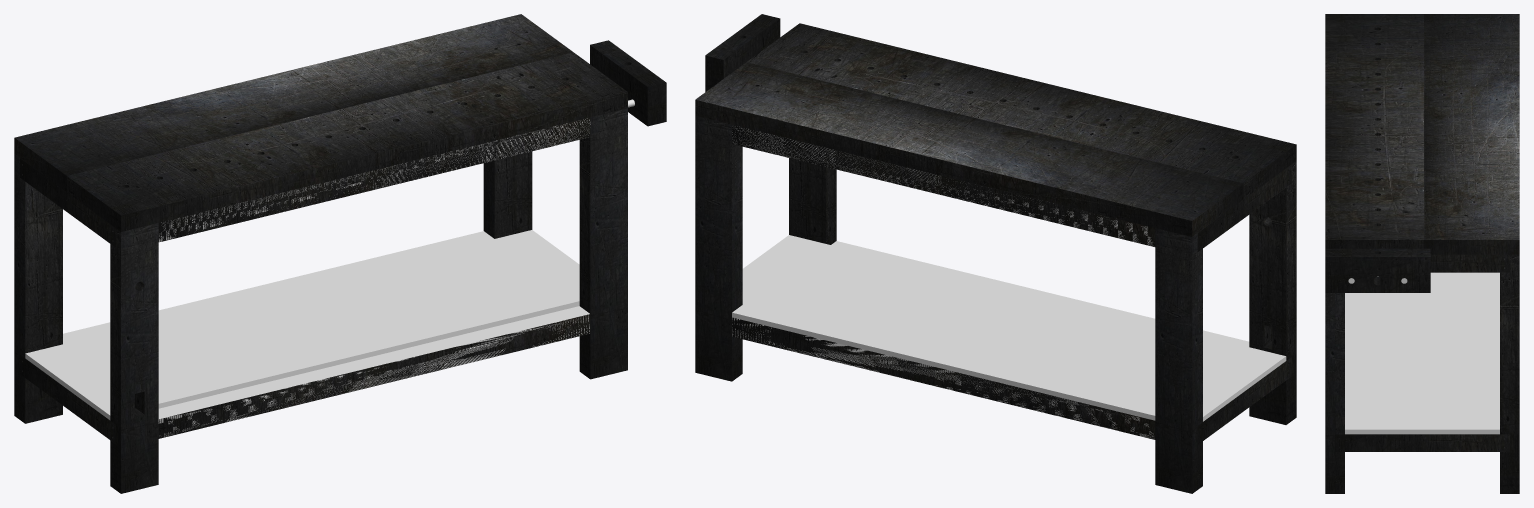
3 views of the same model, side by side, from view 1: azimuth 30°, elevation 25°; view 2: azimuth 150°, elevation 25°; view 3: azimuth 270°, elevation 25° (orthographic). The views are drawn at different scales.
Visible parts, largest first — view 1: instance_24, instance_25, instance_23, instance_15, instance_5, instance_6, instance_3, instance_10, instance_10.001, instance_7, instance_4, instance_1 (+1 smaller); view 2: instance_24, instance_23, instance_25, instance_6, instance_7, instance_15, instance_9, instance_8, instance_5, instance_4, instance_10.001, instance_0 (+1 smaller); view 3: instance_24, instance_25, instance_23, instance_4, instance_7, instance_5, instance_2, instance_20.001.
Boxes of the visible parts, x1,y1,x2,y2 form: instance_24: (25, 230, 579, 420); instance_25: (67, 52, 627, 231); instance_23: (14, 14, 572, 191); instance_15: (110, 223, 158, 493); instance_5: (579, 108, 627, 379); instance_6: (14, 154, 62, 423); instance_3: (158, 117, 590, 242); instance_10: (158, 314, 590, 438); instance_10.001: (158, 306, 589, 418); instance_7: (483, 151, 532, 238); instance_4: (590, 40, 666, 126); instance_1: (20, 355, 115, 443); instance_24: (732, 235, 1286, 421); instance_23: (695, 62, 1243, 236); instance_25: (747, 23, 1296, 198); instance_6: (1155, 228, 1202, 493); instance_7: (695, 116, 742, 381); instance_15: (1249, 161, 1296, 424); instance_9: (732, 317, 1155, 439); instance_8: (732, 125, 1155, 246); instance_5: (789, 158, 836, 244); instance_4: (705, 14, 780, 91); instance_10.001: (831, 241, 1249, 346); instance_0: (1197, 164, 1291, 251); instance_24: (1345, 272, 1499, 434); instance_25: (1325, 14, 1423, 248); instance_23: (1424, 14, 1519, 254); instance_4: (1325, 248, 1430, 292); instance_7: (1500, 254, 1519, 493); instance_5: (1325, 293, 1344, 493); instance_2: (1335, 434, 1509, 451); instance_20.001: (1430, 254, 1509, 272).
Bounding box in the file's own units: 1.74 × 0.85 × 0.59.
5 materials, 1 textured.
